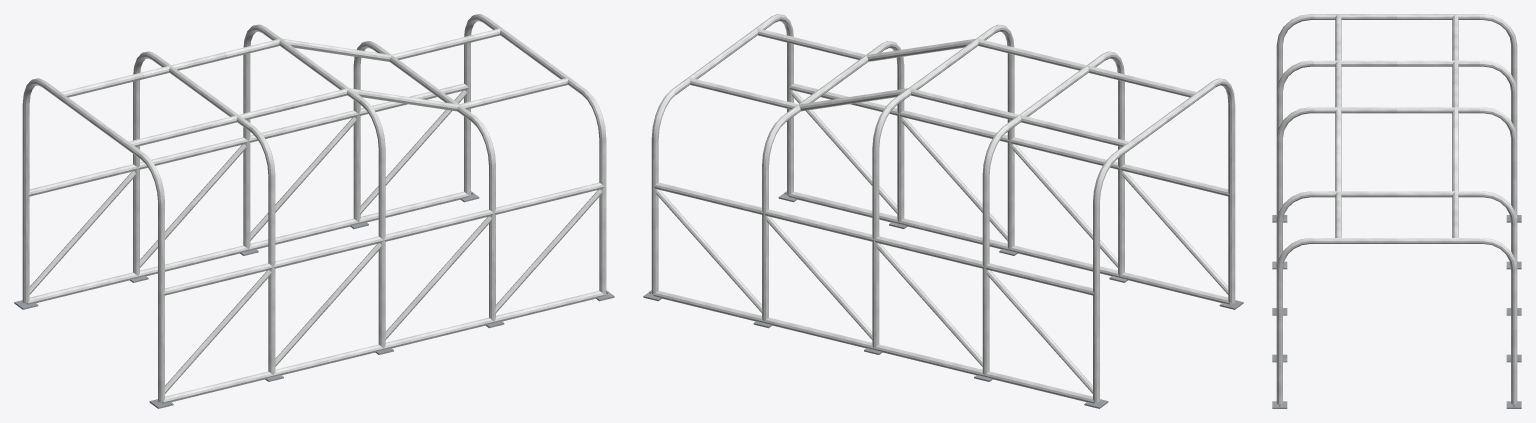
File: nacelle-skeleton-frames.glb
3 renders of one model, left to right at view 1: azimuth 30°, elevation 25°; view 2: azimuth 150°, elevation 25°; view 3: azimuth 270°, elevation 25°, orthographic. The views are drawn at different scales.
Parts seen in each view (by area): view 1: TubePortals, LongitudinalRails, SideBracing, Step-DownRails, MountingFeet; view 2: TubePortals, LongitudinalRails, SideBracing, Step-DownRails, MountingFeet; view 3: TubePortals, LongitudinalRails, Step-DownRails, MountingFeet.
Boxes of the visible parts, x1,y1,x2,y2 form: TubePortals: [22, 14, 606, 402]; LongitudinalRails: [26, 28, 604, 403]; SideBracing: [29, 90, 601, 393]; Step-DownRails: [282, 38, 459, 111]; MountingFeet: [14, 191, 614, 408]; TubePortals: [651, 14, 1235, 402]; LongitudinalRails: [653, 28, 1231, 403]; SideBracing: [656, 90, 1228, 393]; Step-DownRails: [798, 38, 975, 111]; MountingFeet: [643, 191, 1243, 408]; TubePortals: [1276, 14, 1517, 404]; LongitudinalRails: [1276, 14, 1517, 404]; Step-DownRails: [1335, 108, 1458, 191]; MountingFeet: [1272, 215, 1521, 408].
Bounding box in the file's own units: 6.62 × 3.29 × 3.62.
Materials: 2 (2 with a texture image).
